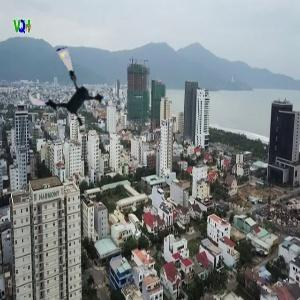drone: (28, 49, 111, 132)
